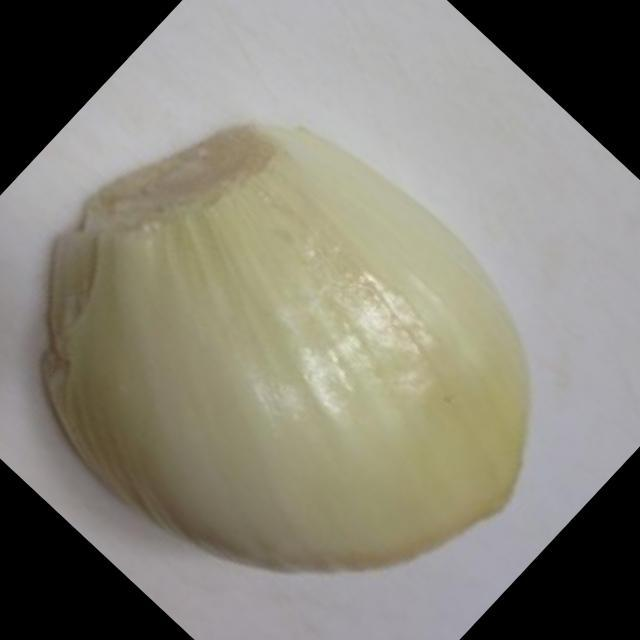Onion: (48, 141, 542, 559)
